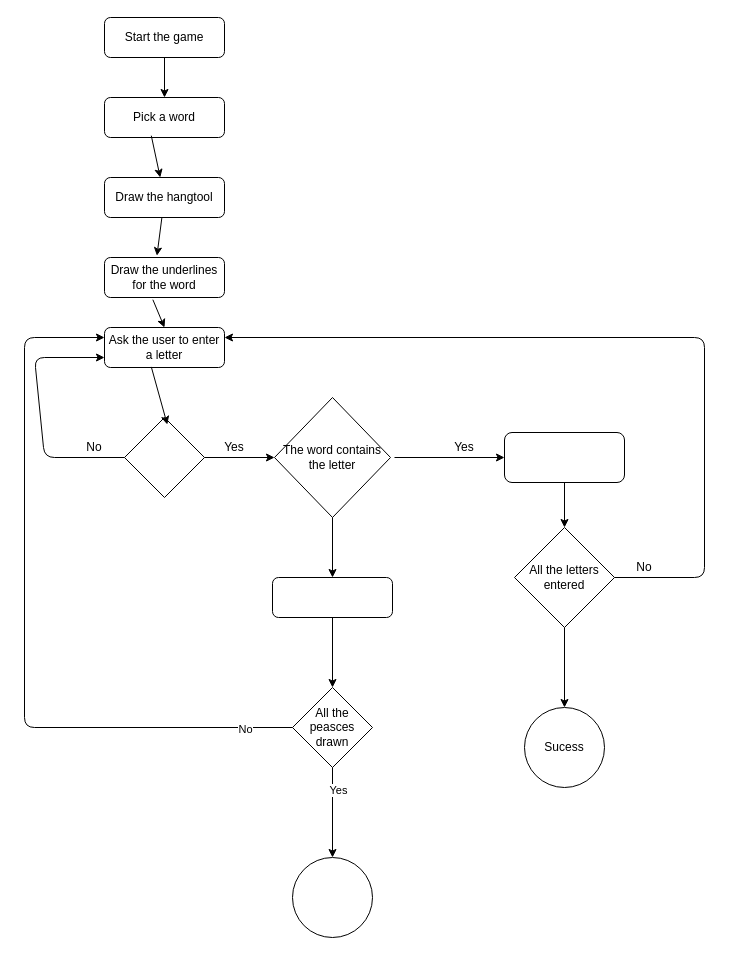
Some shapes in this 730 by 955 pixel diagram are drawn without their labels. The shapes that lost their labels are listed below. From the top down, each one's centre as x and y in pixels, then its label:
(164,457): The letter entered?
(564,457): Draw the letter in the underlined word
(332,597): Draw a peace of a man
(332,897): Fail
